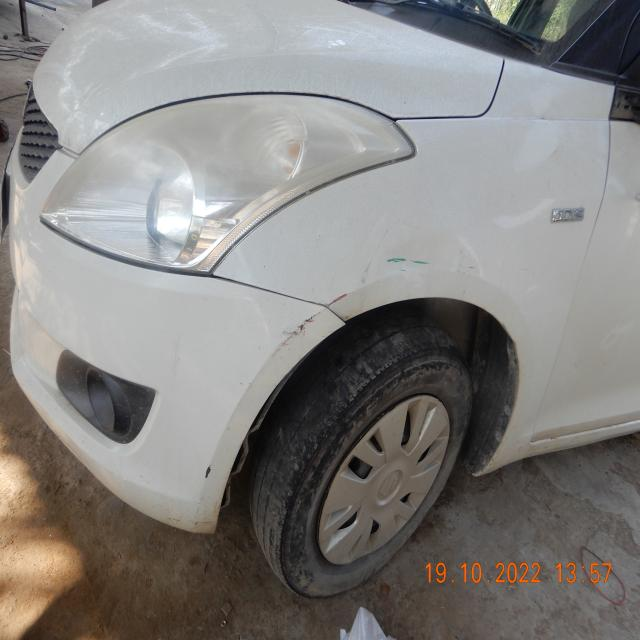damage: (279, 283, 349, 348), (384, 252, 430, 271), (203, 460, 214, 483)
